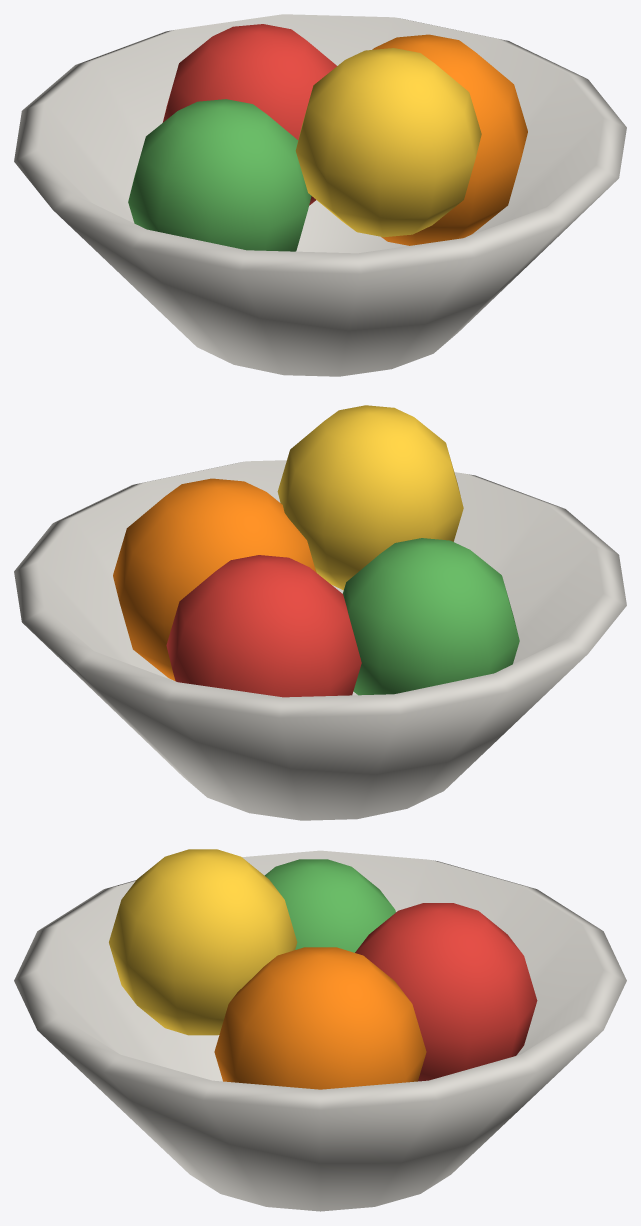
File: FruitBowl.fbx
3 views of the same model, one above another, from view 1: azimuth 30°, elevation 25°; view 2: azimuth 150°, elevation 25°; view 3: azimuth 270°, elevation 25° (orthographic).
Visible parts, largest first — view 1: FruitBowlBody; view 2: FruitBowlBody; view 3: FruitBowlBody.
Boxes of the visible parts, left/top/right/bottom form: FruitBowlBody: left=14, top=14, right=626, bottom=376; FruitBowlBody: left=14, top=405, right=626, bottom=820; FruitBowlBody: left=14, top=849, right=626, bottom=1211.
Bounding box in the file's own units: 0.26 × 0.14 × 0.26.
